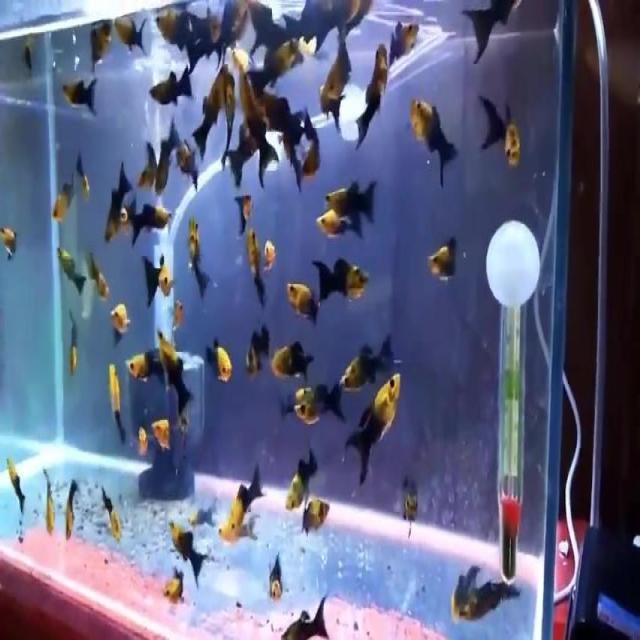PlatyFish: (338, 359, 409, 493), (406, 89, 466, 196), (320, 168, 382, 224), (309, 197, 371, 248)
